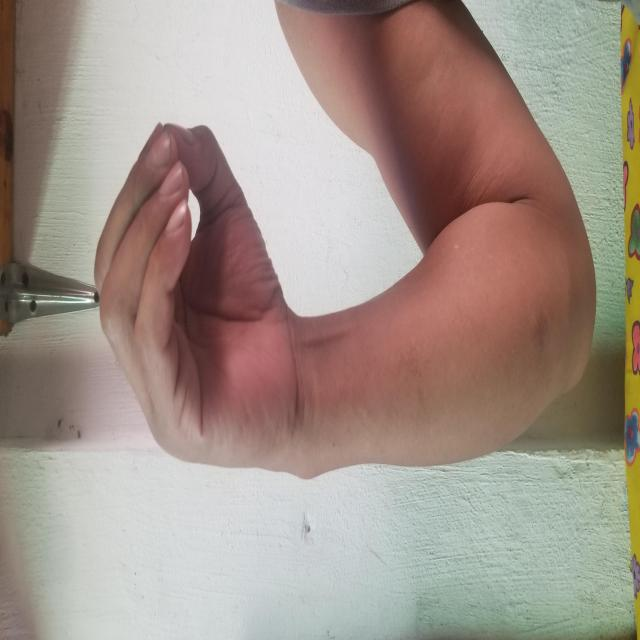O: (171, 92, 520, 290)
